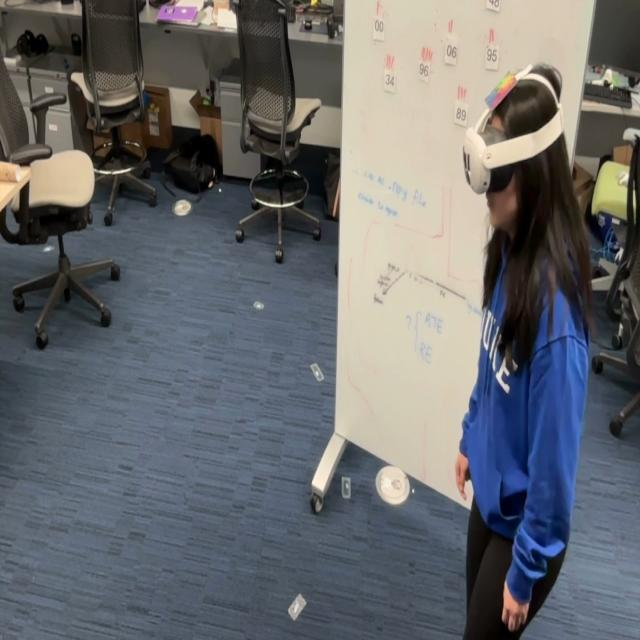Headset: (462, 66, 564, 195)
Marker: (484, 72, 518, 111)
